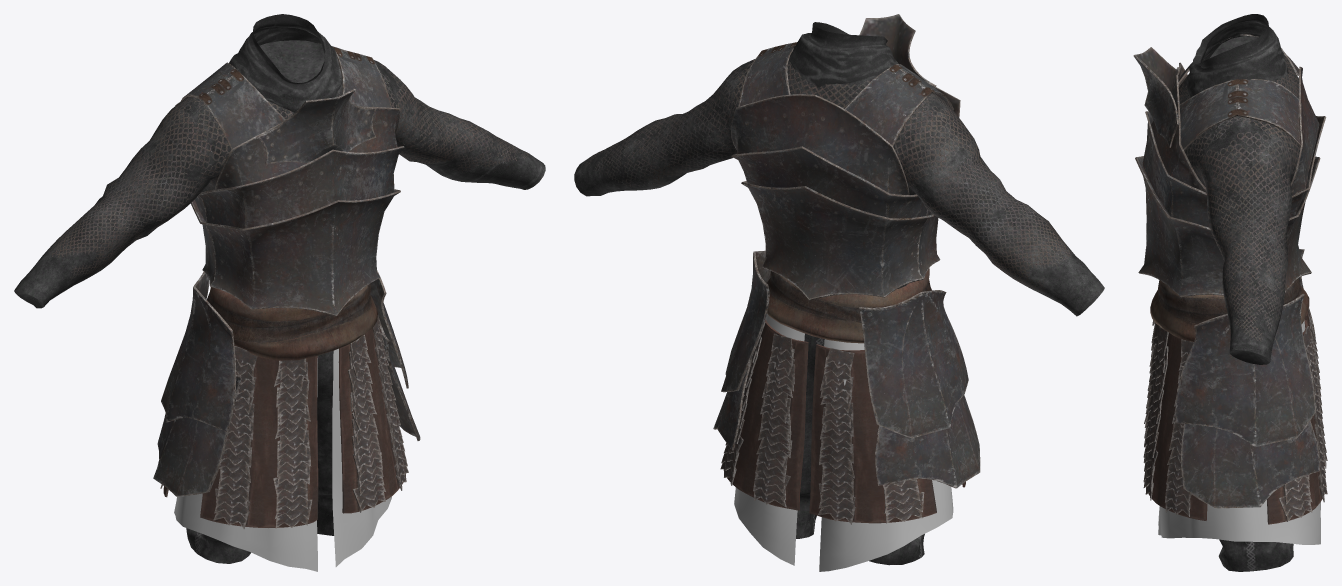
Rendered from sk_dg_uruk_chest_elite_c.fbx.
3 renders of one model, left to right at view 1: azimuth 30°, elevation 25°; view 2: azimuth 150°, elevation 25°; view 3: azimuth 270°, elevation 25°, orthographic.
Parts seen in each view (by area): view 1: sk_dg_uruk_chest_elite_c.2, sk_dg_uruk_chest_elite_c.0, sk_dg_uruk_chest_elite_c.skirt.1, sk_dg_uruk_chest_elite_c.skirt.2, sk_dg_uruk_chest_elite_c.skirt.0, sk_dg_uruk_chest_elite_c.1; view 2: sk_dg_uruk_chest_elite_c.2, sk_dg_uruk_chest_elite_c.0, sk_dg_uruk_chest_elite_c.skirt.1, sk_dg_uruk_chest_elite_c.skirt.2, sk_dg_uruk_chest_elite_c.skirt.0, sk_dg_uruk_chest_elite_c.1; view 3: sk_dg_uruk_chest_elite_c.0, sk_dg_uruk_chest_elite_c.skirt.2, sk_dg_uruk_chest_elite_c.2, sk_dg_uruk_chest_elite_c.skirt.1, sk_dg_uruk_chest_elite_c.skirt.0, sk_dg_uruk_chest_elite_c.1.
Part boxes in pixels (<box>): sk_dg_uruk_chest_elite_c.2: <box>175,43,404,316</box>; sk_dg_uruk_chest_elite_c.0: <box>14,14,545,563</box>; sk_dg_uruk_chest_elite_c.skirt.1: <box>160,315,408,528</box>; sk_dg_uruk_chest_elite_c.skirt.2: <box>153,270,420,496</box>; sk_dg_uruk_chest_elite_c.skirt.0: <box>174,348,391,571</box>; sk_dg_uruk_chest_elite_c.1: <box>207,283,377,360</box>; sk_dg_uruk_chest_elite_c.2: <box>730,14,960,300</box>; sk_dg_uruk_chest_elite_c.0: <box>574,22,1104,565</box>; sk_dg_uruk_chest_elite_c.skirt.1: <box>720,319,965,524</box>; sk_dg_uruk_chest_elite_c.skirt.2: <box>713,250,980,488</box>; sk_dg_uruk_chest_elite_c.skirt.0: <box>734,313,953,571</box>; sk_dg_uruk_chest_elite_c.1: <box>766,268,931,343</box>; sk_dg_uruk_chest_elite_c.0: <box>1178,14,1303,571</box>; sk_dg_uruk_chest_elite_c.skirt.2: <box>1175,249,1319,508</box>; sk_dg_uruk_chest_elite_c.2: <box>1133,34,1326,297</box>; sk_dg_uruk_chest_elite_c.skirt.1: <box>1143,307,1327,524</box>; sk_dg_uruk_chest_elite_c.skirt.0: <box>1158,320,1320,544</box>; sk_dg_uruk_chest_elite_c.1: <box>1150,278,1309,342</box>.
Size of the model in its own units: 1.35 by 0.4392 by 1.28.
